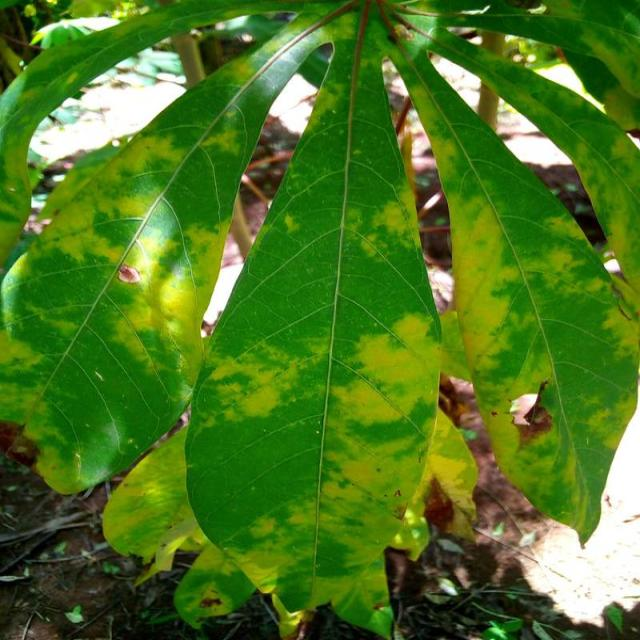cassava leaf: (0, 1, 638, 636), (0, 4, 338, 496), (182, 2, 444, 635), (384, 20, 638, 546)
